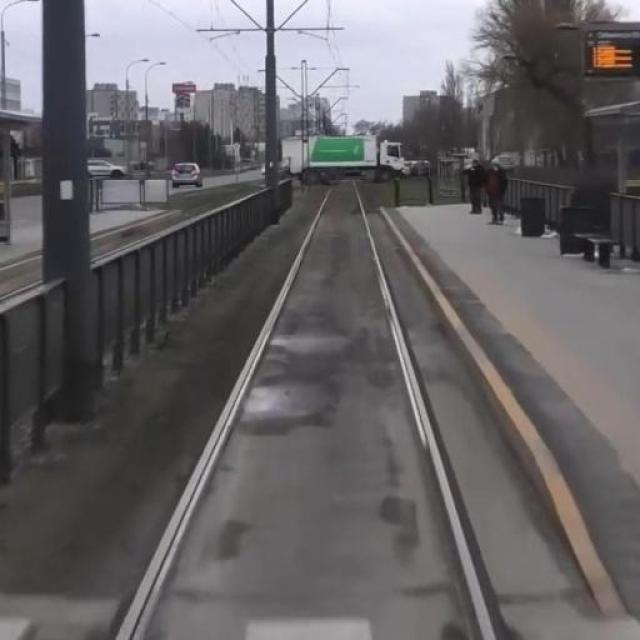people: (488, 155, 510, 228), (463, 154, 485, 220)
vehicle: (274, 135, 408, 184), (169, 156, 216, 196)
